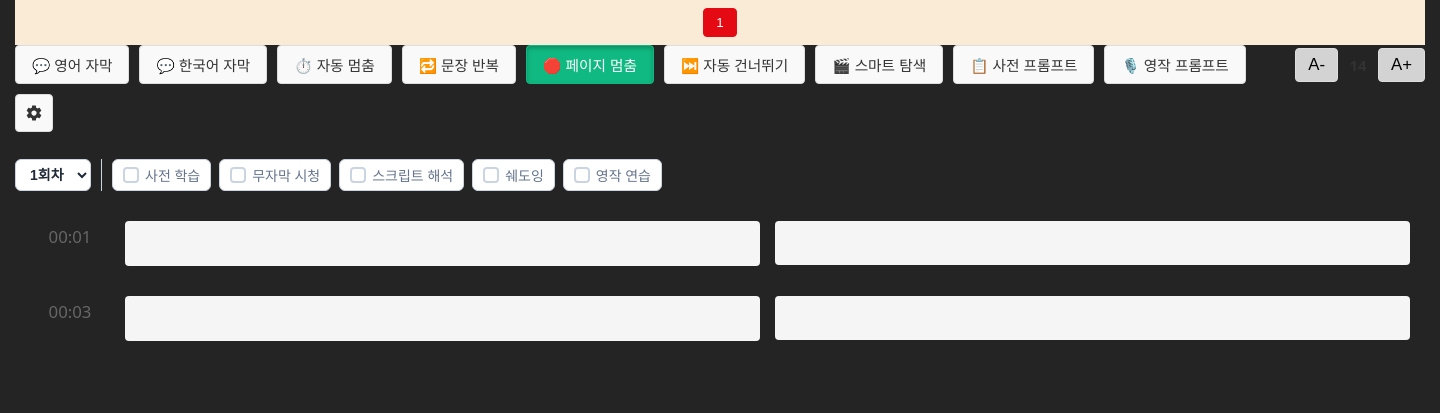
Test: 4.2-6 storage error notices › shows the unauthenticated notice when saving the checklist fails, and keeps the subtitles working
Click the text "사전 학습": (173,175) [145,165,200,185]
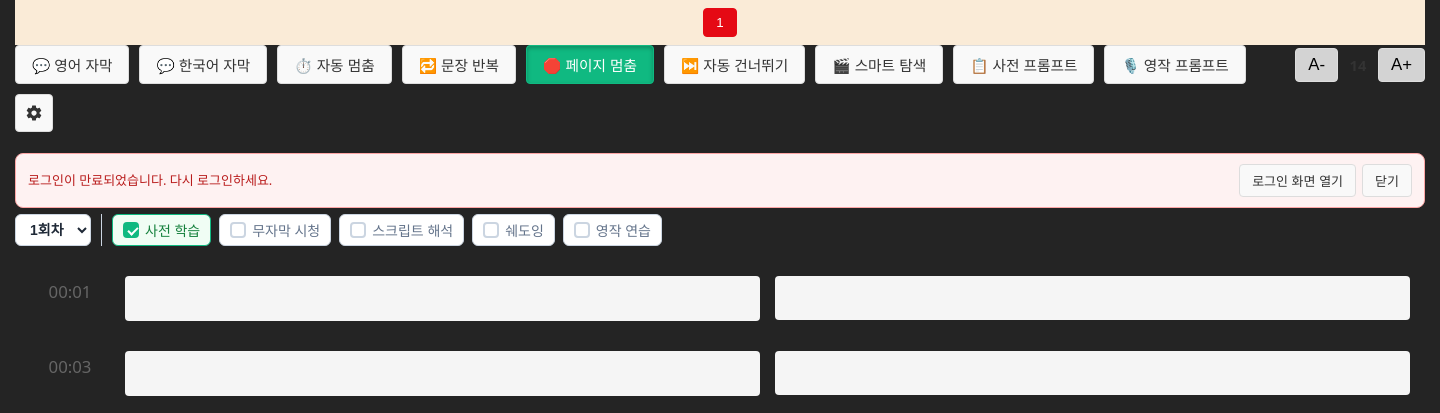
Check: the text "Sentence One" is shown, box [125,276,760,321]
Check: the message shows "로그인이 만료되었습니다. 다시 로그인하세요.", box [28,171,272,189]
